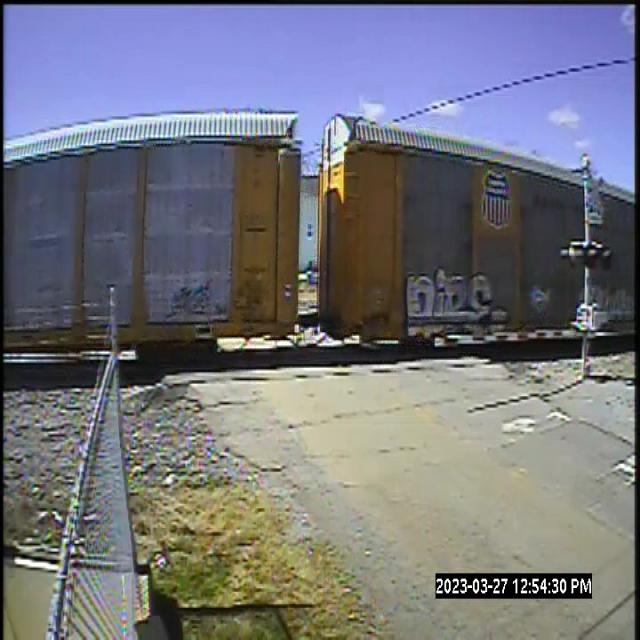barrier-closed: (434, 317, 581, 354)
traffic-signal: (560, 225, 620, 384)
train: (3, 105, 640, 338)
